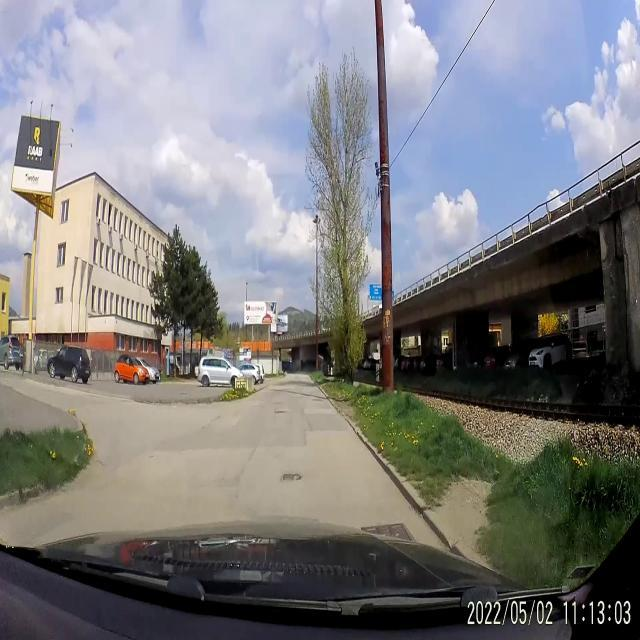Manhole: (361, 522, 418, 540), (312, 397, 323, 403)
Pothole: (278, 471, 303, 482), (272, 408, 290, 415), (272, 402, 283, 406), (216, 414, 222, 420), (148, 454, 155, 459), (200, 426, 205, 430), (212, 418, 215, 420)
